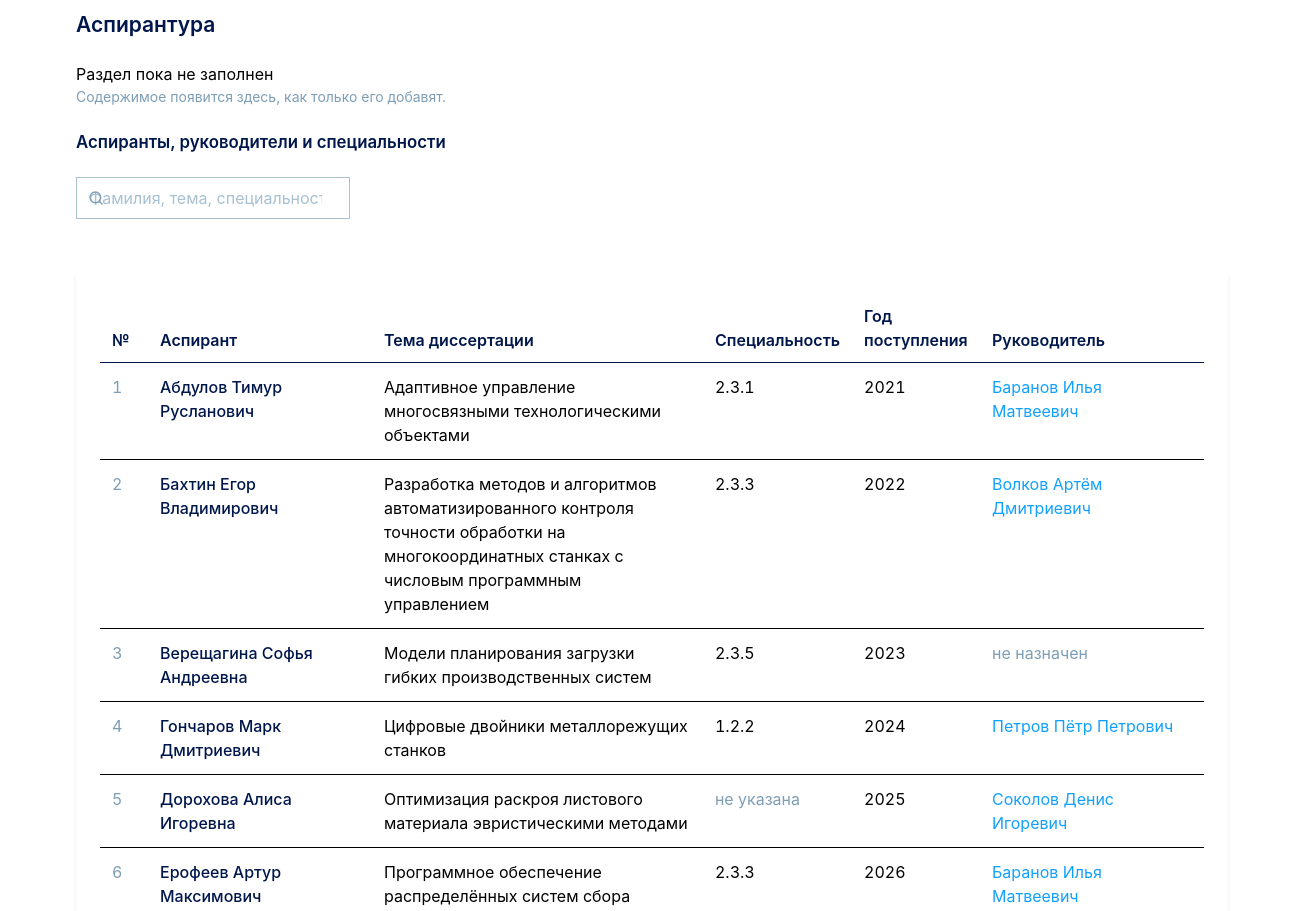
it: PostgraduatePage › ищет по всему разделу и кладёт запрос в адрес
Expected: the column heading "Абдулов Тимур Русланович" is shown, top-left (148, 363), bottom-right (372, 460)
Type "чернышёв" into the search field named "Поиск по таблице аспирантов" at coordinates (213, 198), box top-left (76, 177), bottom-right (350, 219)
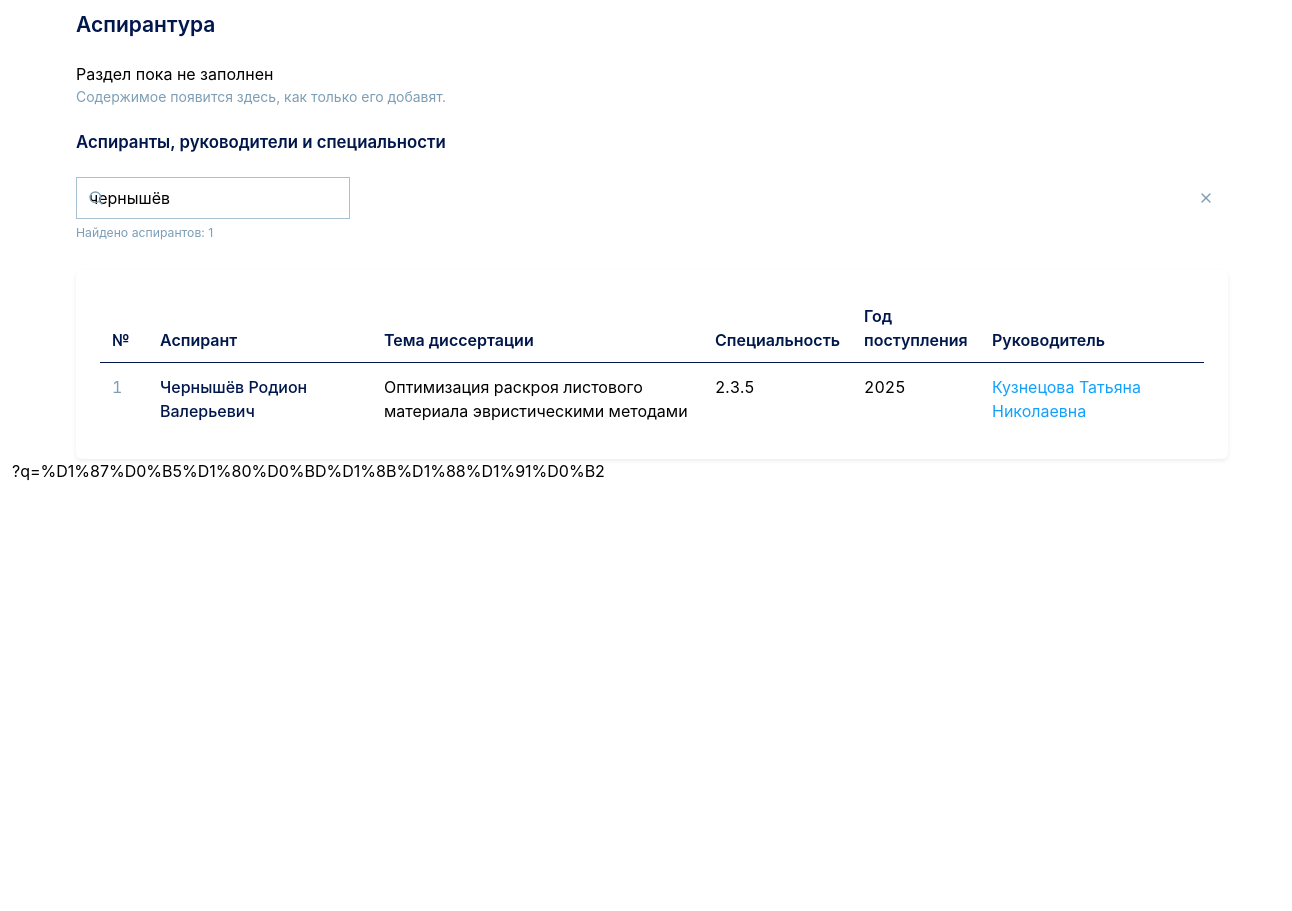
Expected: the column heading "Чернышёв Родион Валерьевич" is shown, top-left (148, 363), bottom-right (372, 435)
Expected: the column heading "Абдулов Тимур Русланович" is gone
Expected: the text "Найдено аспирантов: 1" is shown, top-left (76, 225), bottom-right (213, 240)
